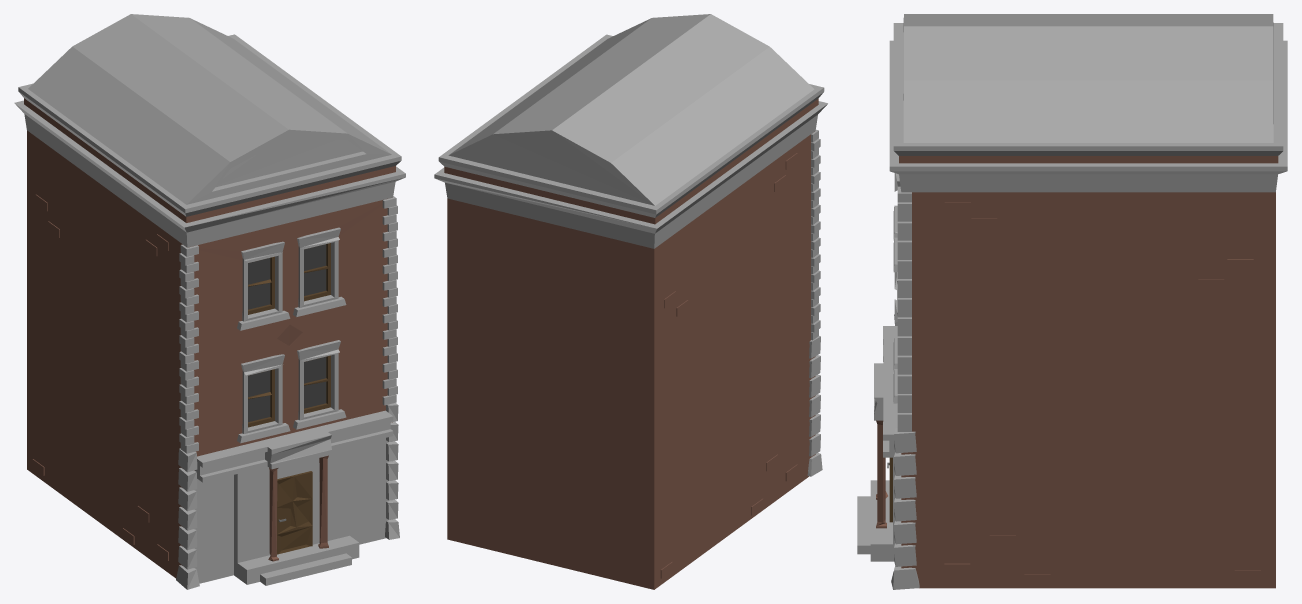
File: b_building3_small.glb
3 views of the same model, side by side, from view 1: azimuth 30°, elevation 25°; view 2: azimuth 150°, elevation 25°; view 3: azimuth 270°, elevation 25° (orthographic). The views are drawn at different scales.
Parts seen in each view (by area): view 1: Building3_Small; view 2: Building3_Small; view 3: Building3_Small.
Part boxes in pixels (x1,y1,x2,y2): Building3_Small: (14,14,405,589); Building3_Small: (434,14,827,589); Building3_Small: (857,14,1287,589).
Size of the model in its own units: 3.05 by 5.68 by 4.4.
